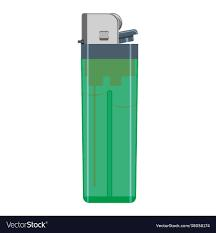lighter: (76, 13, 139, 205)
